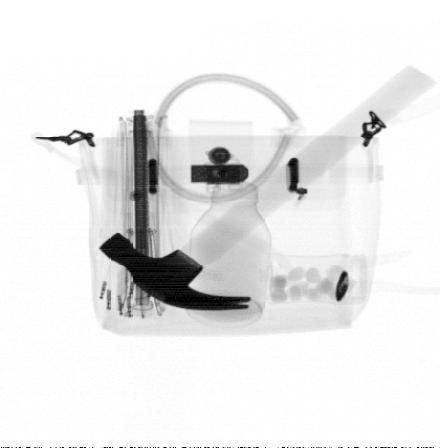Hammer: (99, 64, 439, 312)
